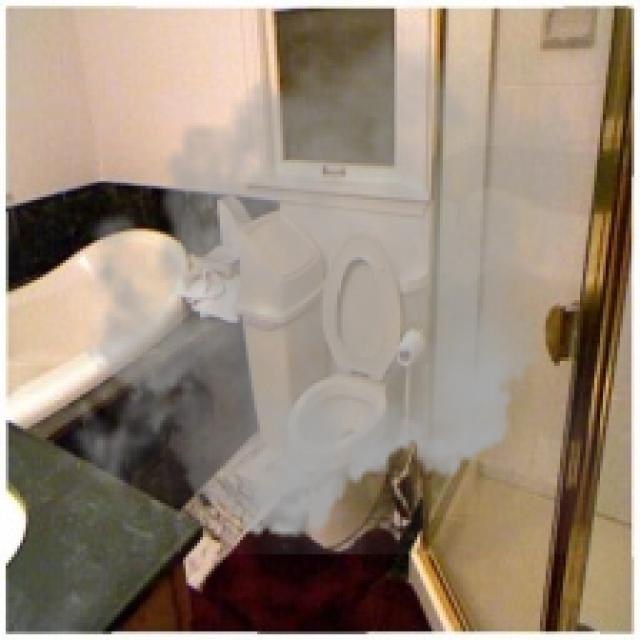Smoke: (54, 0, 598, 555)
